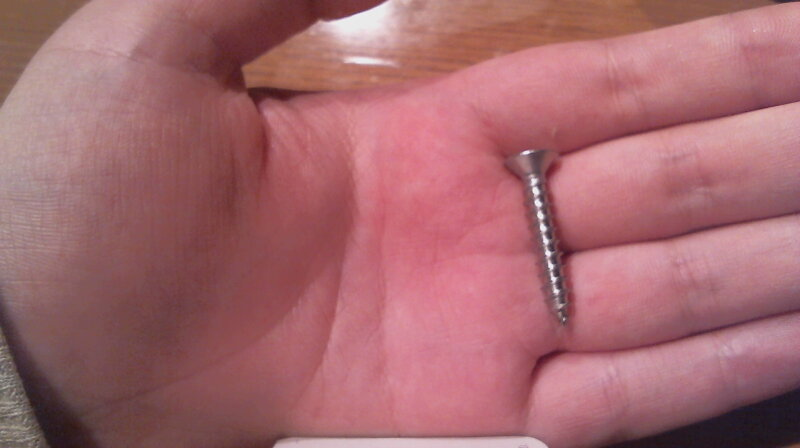S001: (492, 140, 575, 333)
